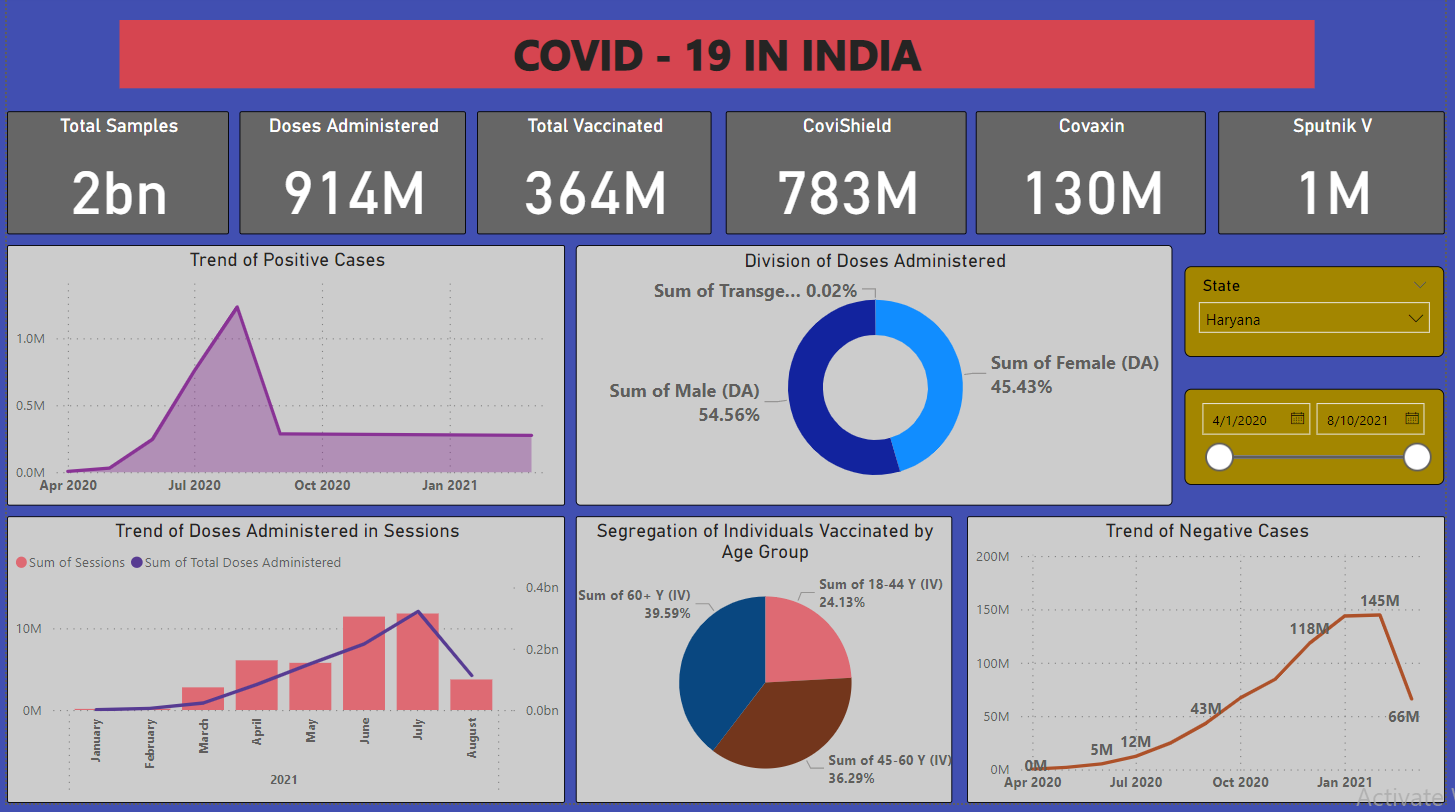

What the dashboard file says about the page in this screenshot:
{"tool":"powerbi","page":{"name":"Page 1","canvas":[1280,720],"ordinal":0},"visuals":[{"type":"areaChart","title":"Trend of Positive  Cases","fields":{"Category":["StatewiseTestingDetails.Date.Variation.Date Hierarchy.Year","StatewiseTestingDetails.Date.Variation.Date Hierarchy.Month"],"Y":["Sum(StatewiseTestingDetails.Positive)"]},"box":[0,222.5,497.2,232.1],"z":0},{"type":"donutChart","title":"Division of Doses Administered","fields":{"Y":["Sum(covid19.Female (Doses Administered))","Sum(covid19.Male (Doses Administered))","Sum(covid19.Transgender (Doses Administered))"]},"box":[506.8,222.5,531.5,232.1],"z":1000},{"type":"slicer","fields":{"Values":["covid19.State"]},"box":[1048,241.2,231.6,80.8],"z":2000},{"type":"lineChart","title":"Trend of Negative Cases","fields":{"Category":["StatewiseTestingDetails.Date.Variation.Date Hierarchy.Year","StatewiseTestingDetails.Date.Variation.Date Hierarchy.Month"],"Y":["Sum(StatewiseTestingDetails.Negative)"]},"box":[854.2,464.2,425.8,255.5],"z":3000},{"type":"card","title":"Total Samples","fields":{"Values":["Sum(StatewiseTestingDetails.TotalSamples)"]},"box":[0,103,197.8,109.9],"z":4000},{"type":"lineStackedColumnComboChart","title":"Trend of Doses Administered in Sessions","fields":{"Category":["covid19.Date.Variation.Date Hierarchy.Year","covid19.Date.Variation.Date Hierarchy.Month"],"Y":["Sum(covid19.Sessions)"],"Y2":["Sum(covid19.Total Doses Administered)"]},"box":[0,464.2,497.2,255.5],"z":4001},{"type":"card","title":"Doses Administered","fields":{"Values":["Sum(covid19.Total Doses Administered)"]},"box":[207.4,103,201.9,109.9],"z":4002},{"type":"card","title":"Covaxin","fields":{"Values":["Sum(covid19. Covaxin (Doses Administered))"]},"box":[862.5,103,204.6,109.9],"z":4003},{"type":"card","title":"CoviShield","fields":{"Values":["Sum(covid19.CoviShield (Doses Administered))"]},"box":[640,103,214.2,109.9],"z":4004},{"type":"pieChart","title":"Segregation of Individuals Vaccinated by Age Group ","fields":{"Y":["Sum(covid19.18-44 Years(Individuals Vaccinated))","Sum(covid19.45-60 Years(Individuals Vaccinated))","Sum(covid19.60+ Years(Individuals Vaccinated))"]},"box":[506.8,464.2,335.1,255.5],"z":4006},{"type":"card","title":"Total Vaccinated","fields":{"Values":["Sum(covid19.Total Individuals Vaccinated)"]},"box":[418.9,103,208.8,109.9],"z":4007},{"type":"slicer","fields":{"Values":["covid19.Date"]},"box":[1048,351,231.6,85.6],"z":4008},{"type":"card","title":"Sputnik V","fields":{"Values":["Sum(covid19.Sputnik V (Doses Administered))"]},"box":[1078.1,103,201.9,109.9],"z":4009},{"type":"textbox","box":[100.3,22,1064.4,60.4],"z":4010}]}

Visuals, with their boxes in screenshot pixels (x1, y1, x2, y2), scaled from the page's 1280x720 canvas onto the 1455x812 screenshot:
"Trend of Positive  Cases" areaChart: pyautogui.locateOnScreen(0, 251, 565, 513)
"Division of Doses Administered" donutChart: pyautogui.locateOnScreen(576, 251, 1180, 513)
slicer - covid19.State: pyautogui.locateOnScreen(1191, 272, 1454, 363)
"Trend of Negative Cases" lineChart: pyautogui.locateOnScreen(971, 524, 1454, 811)
"Total Samples" card: pyautogui.locateOnScreen(0, 116, 225, 240)
"Trend of Doses Administered in Sessions" lineStackedColumnComboChart: pyautogui.locateOnScreen(0, 524, 565, 811)
"Doses Administered" card: pyautogui.locateOnScreen(236, 116, 465, 240)
"Covaxin" card: pyautogui.locateOnScreen(980, 116, 1213, 240)
"CoviShield" card: pyautogui.locateOnScreen(728, 116, 971, 240)
"Segregation of Individuals Vaccinated by Age Group " pieChart: pyautogui.locateOnScreen(576, 524, 957, 811)
"Total Vaccinated" card: pyautogui.locateOnScreen(476, 116, 714, 240)
slicer - covid19.Date: pyautogui.locateOnScreen(1191, 396, 1454, 492)
"Sputnik V" card: pyautogui.locateOnScreen(1225, 116, 1454, 240)
textbox: pyautogui.locateOnScreen(114, 25, 1324, 93)
